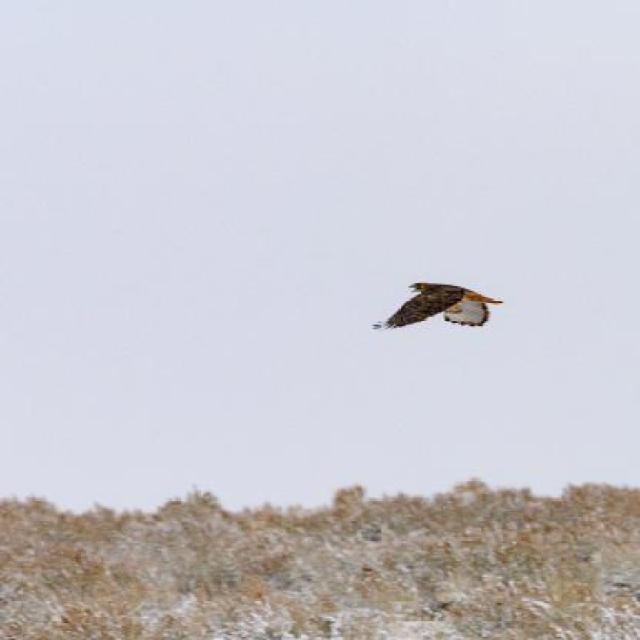bird: (373, 282, 504, 332)
